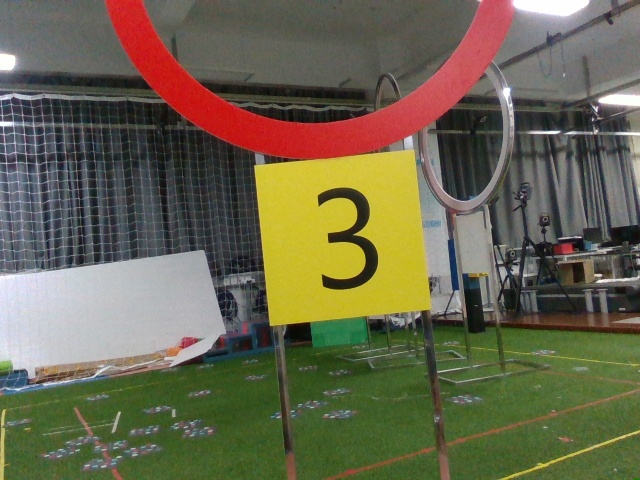target: (265, 164, 422, 313)
